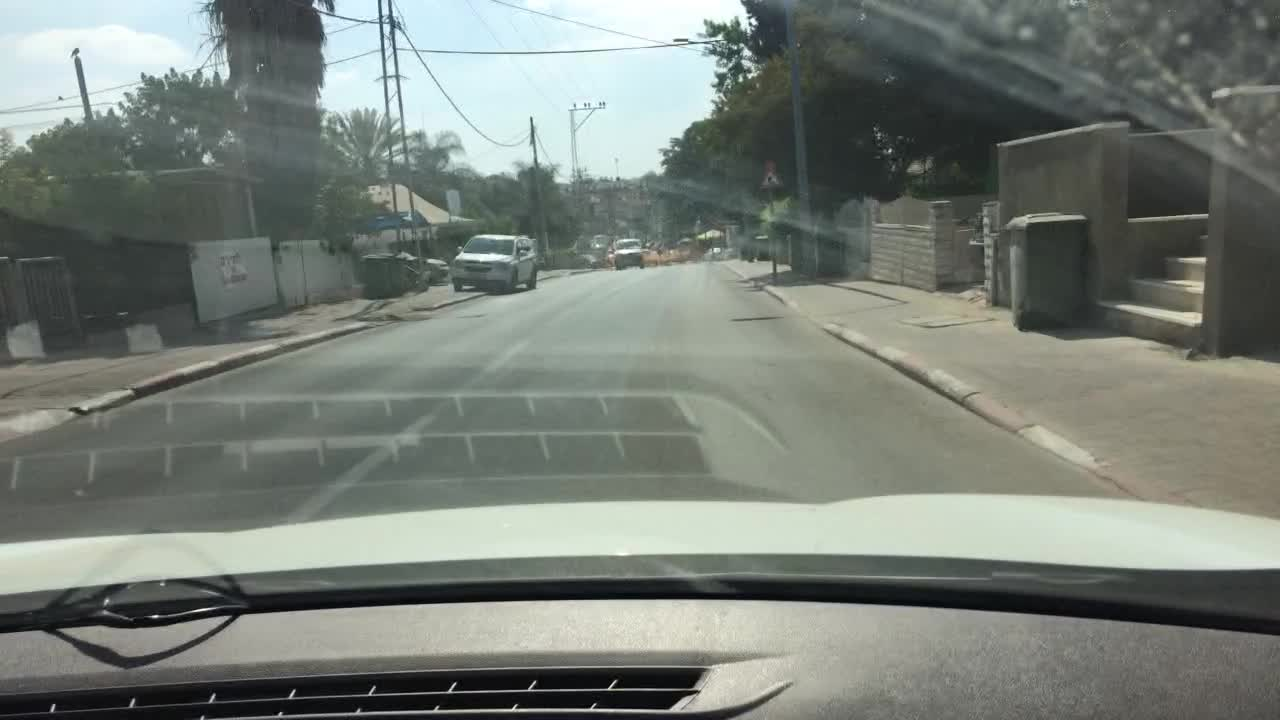car: (450, 232, 538, 290), (356, 249, 446, 286), (613, 237, 645, 270), (604, 244, 613, 266)
traffic sign: (757, 157, 783, 189)
